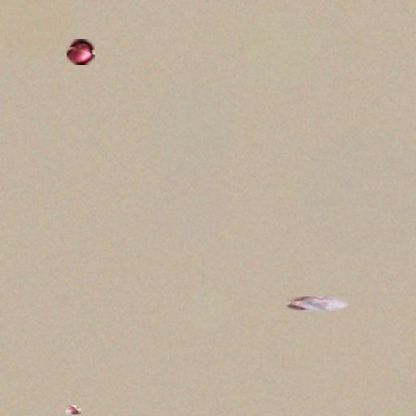healthy: (67, 39, 95, 65)
rotten: (284, 297, 351, 311)
sprouted: (66, 405, 81, 414)
